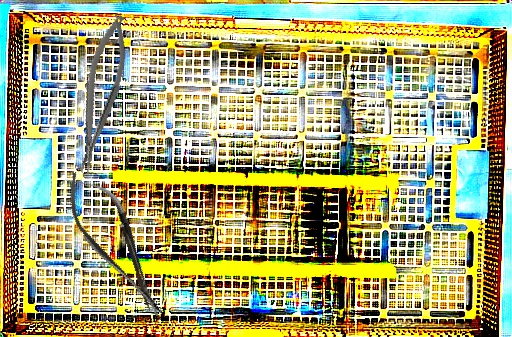Micro Scissor: (52, 160, 179, 329)
Needle Holder: (63, 11, 138, 177)
Pusher: (112, 202, 156, 312)
